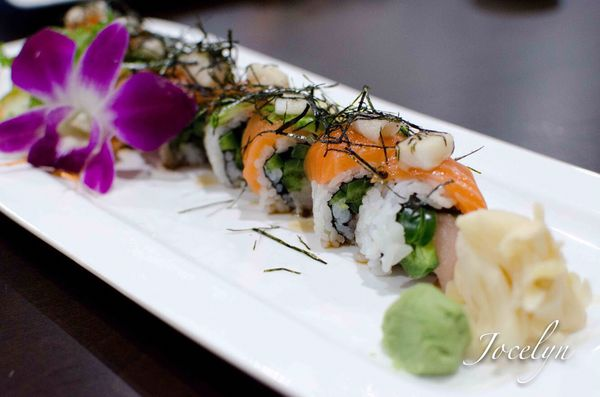curry: (0, 5, 597, 395)
